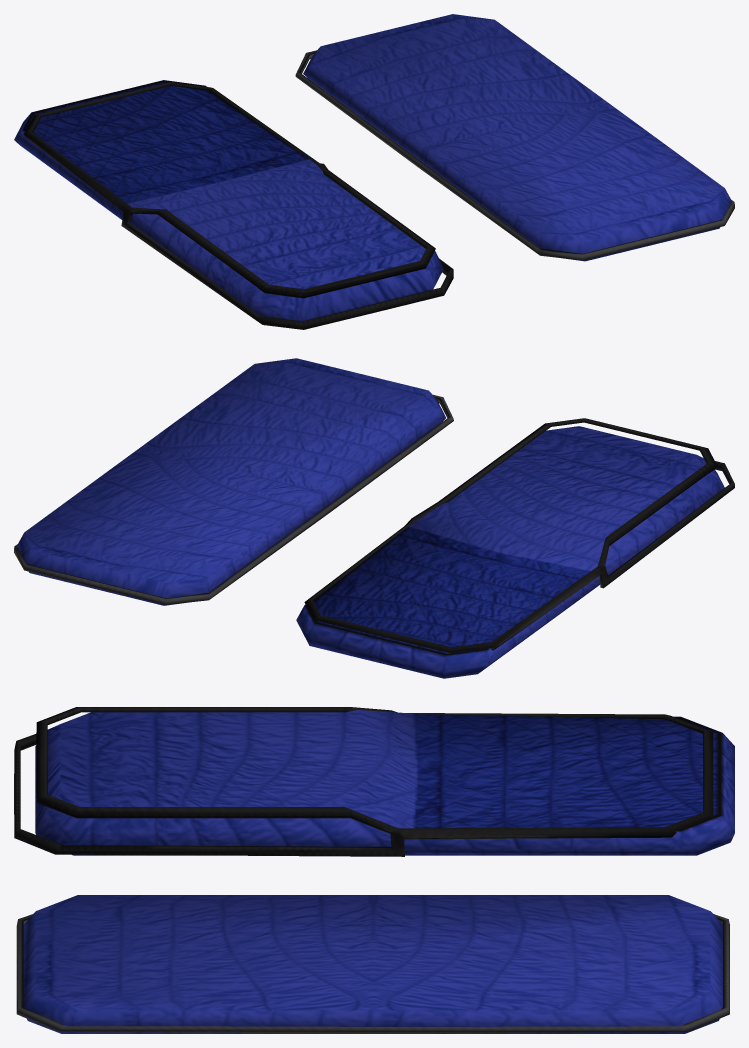
File: SleepingBags_DarkBlue.obj
3 views of the same model, one above another, from view 1: azimuth 30°, elevation 25°; view 2: azimuth 150°, elevation 25°; view 3: azimuth 270°, elevation 25° (orthographic). The views are drawn at different scales.
Visible parts, largest first — view 1: Cube.010_Material.003, Cube.009_Material.003, Cube.031_Material.007, Cube.016_Material.021; view 2: Cube.010_Material.003, Cube.009_Material.003, Cube.031_Material.007, Cube.016_Material.021; view 3: Cube.010_Material.003, Cube.009_Material.003, Cube.031_Material.007, Cube.016_Material.021.
Part boxes in pixels (x1,y1,x2,y2): Cube.010_Material.003: (303,14,731,261); Cube.009_Material.003: (14,80,443,321); Cube.031_Material.007: (23,82,453,329); Cube.016_Material.021: (295,50,734,260); Cube.010_Material.003: (17,358,445,605); Cube.009_Material.003: (296,426,724,678); Cube.031_Material.007: (304,418,734,653); Cube.016_Material.021: (14,394,453,604); Cube.010_Material.003: (23,895,722,1033); Cube.009_Material.003: (35,710,734,855); Cube.031_Material.007: (14,707,713,856); Cube.016_Material.021: (16,914,729,1033).
Bounding box in the file's own units: 2.08 × 0.1401 × 2.1.
